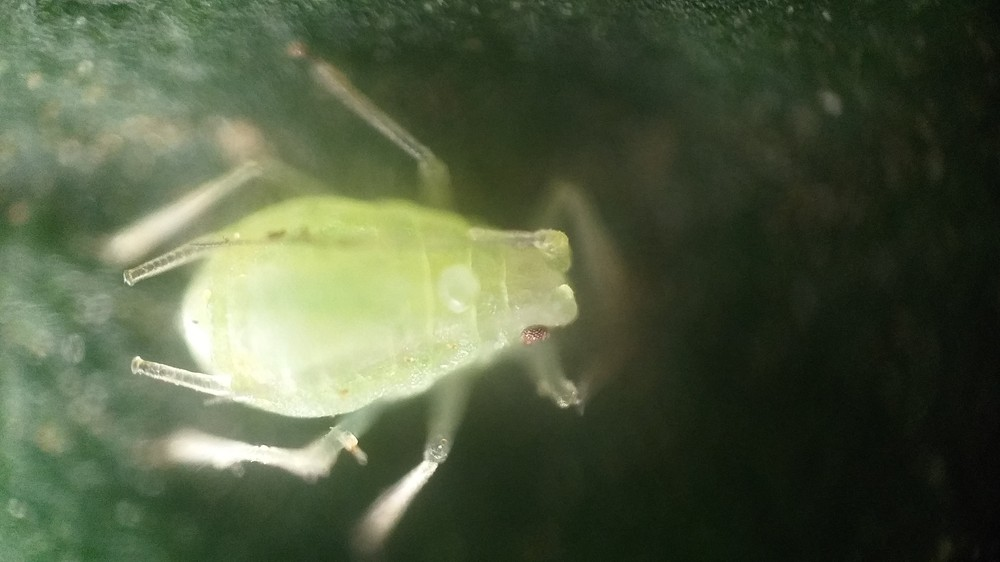Pulgon: (90, 62, 657, 549)
